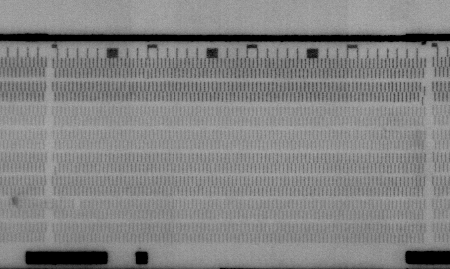Broken hole: (71, 198, 83, 210)
Oblique printing: (417, 82, 429, 106)
